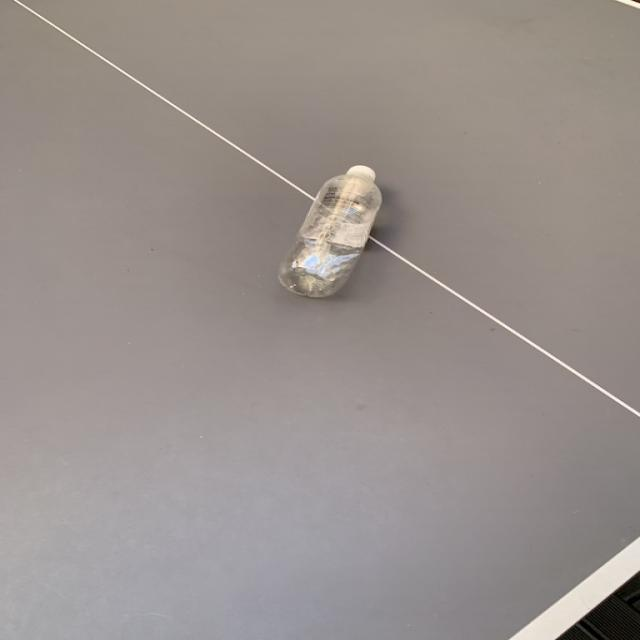Waste: (279, 166, 382, 298)
